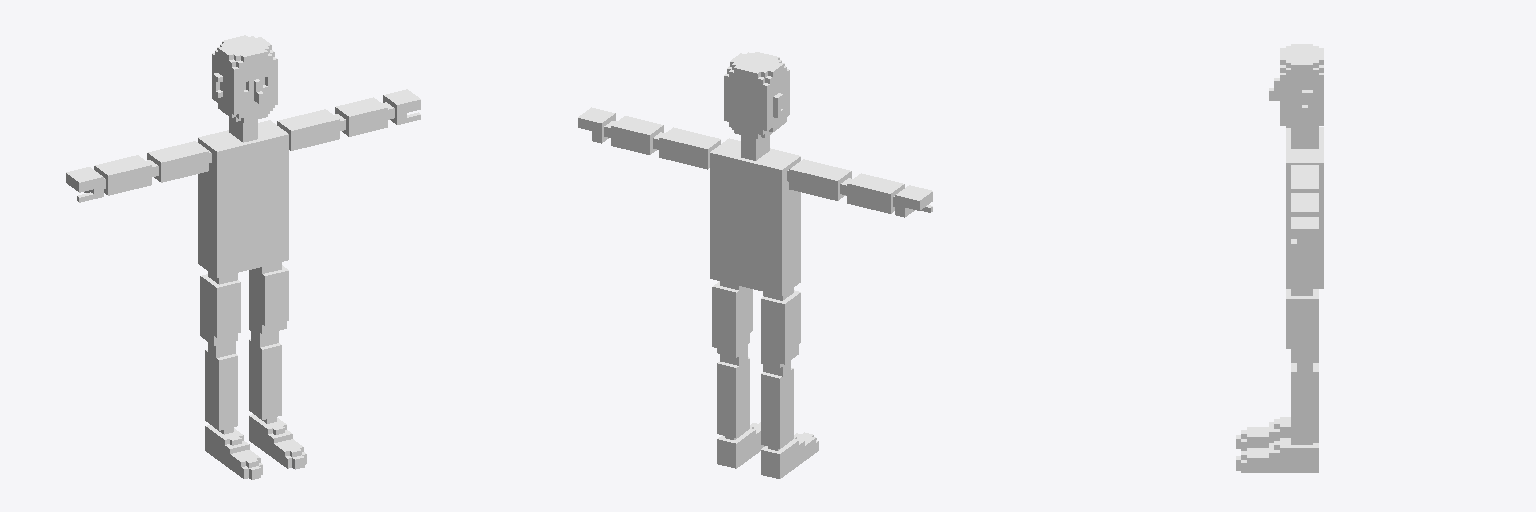
Rendered from casual_zombie.obj.
3 views of the same model, side by side, from view 1: azimuth 30°, elevation 25°; view 2: azimuth 150°, elevation 25°; view 3: azimuth 270°, elevation 25° (orthographic).
Parts seen in each view (by area): view 1: casual_zombie; view 2: casual_zombie; view 3: casual_zombie.
Boxes of the visible parts, x1=… form: casual_zombie: x1=66, y1=35, x2=420, y2=479; casual_zombie: x1=578, y1=52, x2=932, y2=478; casual_zombie: x1=1236, y1=44, x2=1323, y2=472.
Size of the model in its own units: 71 by 80 by 16.